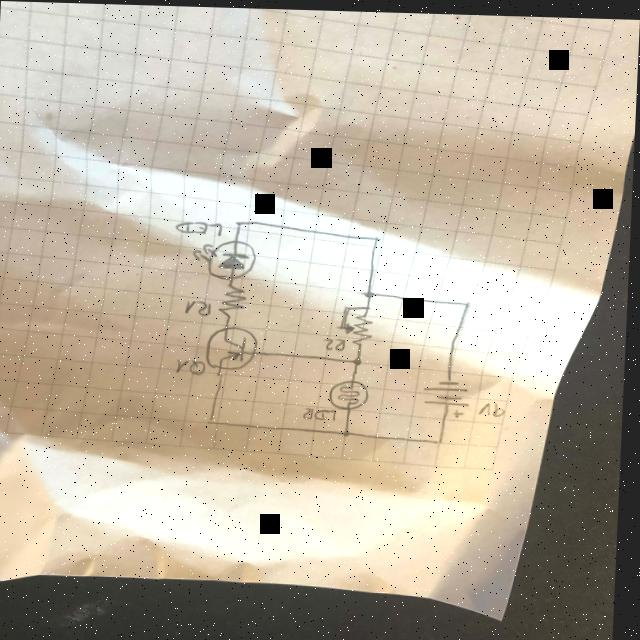diode: (191, 237, 260, 279)
junction: (353, 354, 365, 364), (365, 287, 377, 295), (373, 232, 383, 241), (209, 415, 220, 423), (437, 434, 447, 442), (345, 426, 355, 434), (465, 297, 475, 305), (236, 218, 246, 226)
resistor: (330, 376, 374, 409), (340, 311, 377, 344), (219, 282, 249, 317)
source: (422, 374, 476, 415)
text: (175, 217, 225, 236), (177, 355, 208, 374), (305, 403, 340, 418), (185, 298, 215, 315), (480, 397, 510, 414), (326, 334, 350, 349)
transistor: (208, 324, 262, 369)
